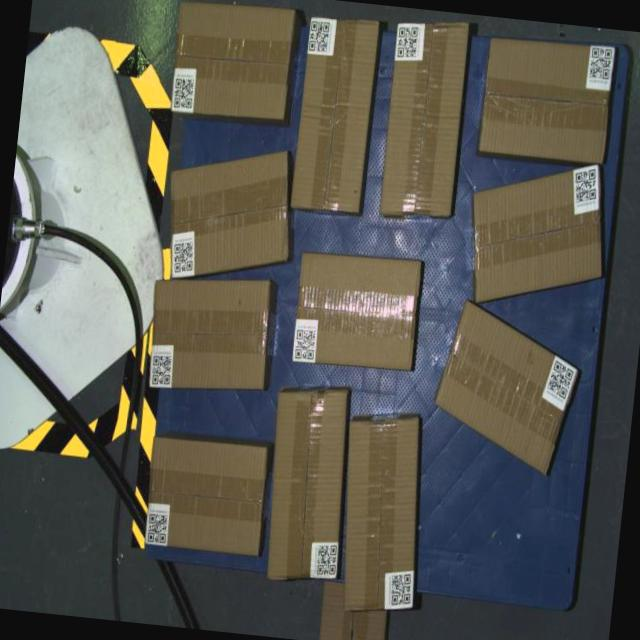box: (428, 297, 584, 478), (462, 151, 613, 315), (329, 410, 432, 618), (159, 139, 299, 291), (375, 15, 470, 221), (258, 384, 355, 585), (290, 13, 379, 215), (478, 34, 615, 164), (144, 268, 274, 399), (291, 247, 422, 373), (141, 434, 270, 557), (168, 0, 294, 122)
